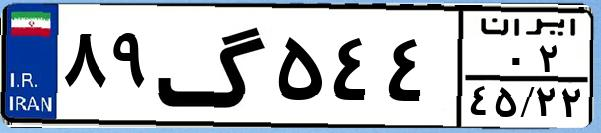0: (508, 27, 537, 80)
2: (560, 70, 590, 125), (537, 27, 568, 80), (535, 70, 560, 125)
4: (385, 28, 445, 110), (330, 28, 385, 110), (470, 70, 495, 125)
5: (270, 28, 330, 110), (495, 70, 520, 125)
8: (57, 26, 110, 100)
9: (110, 28, 156, 98)
گ: (156, 12, 270, 120)
